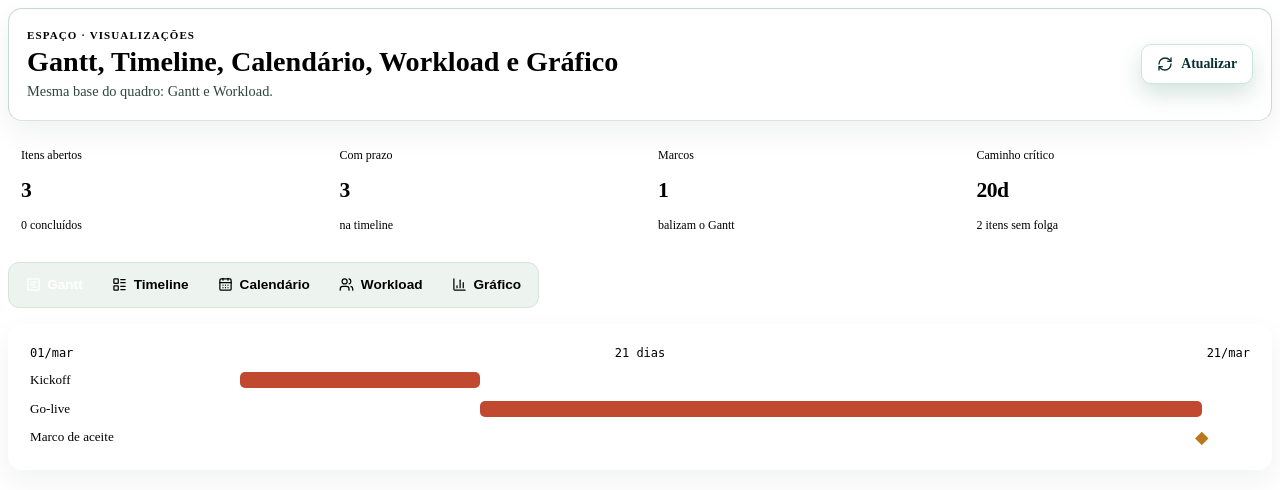
Scenario: Espaço · Visualizações › troca para Workload e soma a carga por responsável
Expected: the text "20d" is shown, [976,178,1008,202]
Click the tab "Workload" at (381, 285), box [327,267,435,303]
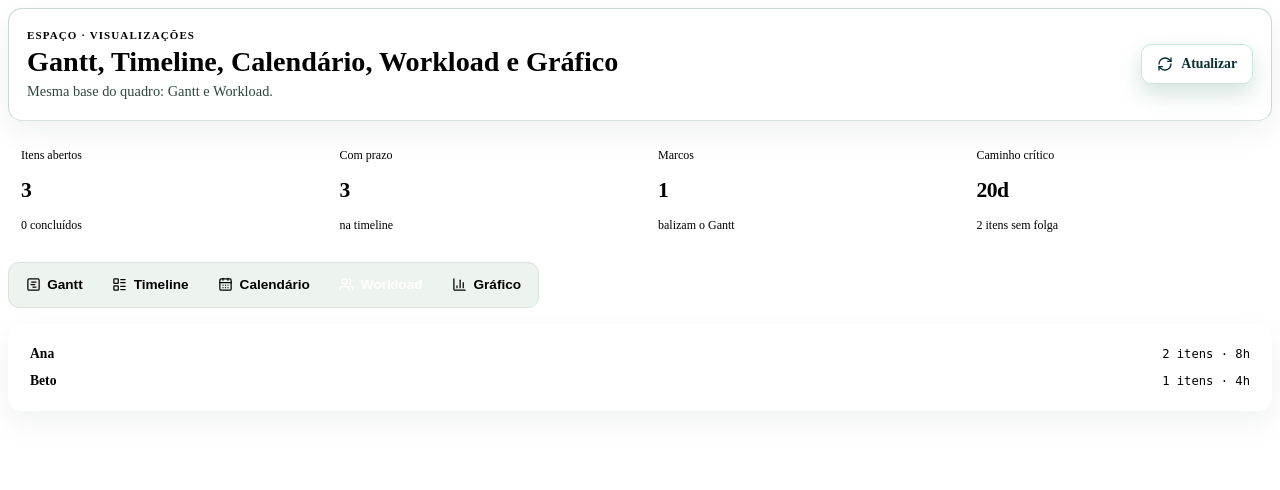
Now the text "Ana" is shown, box [30,346,54,361]
